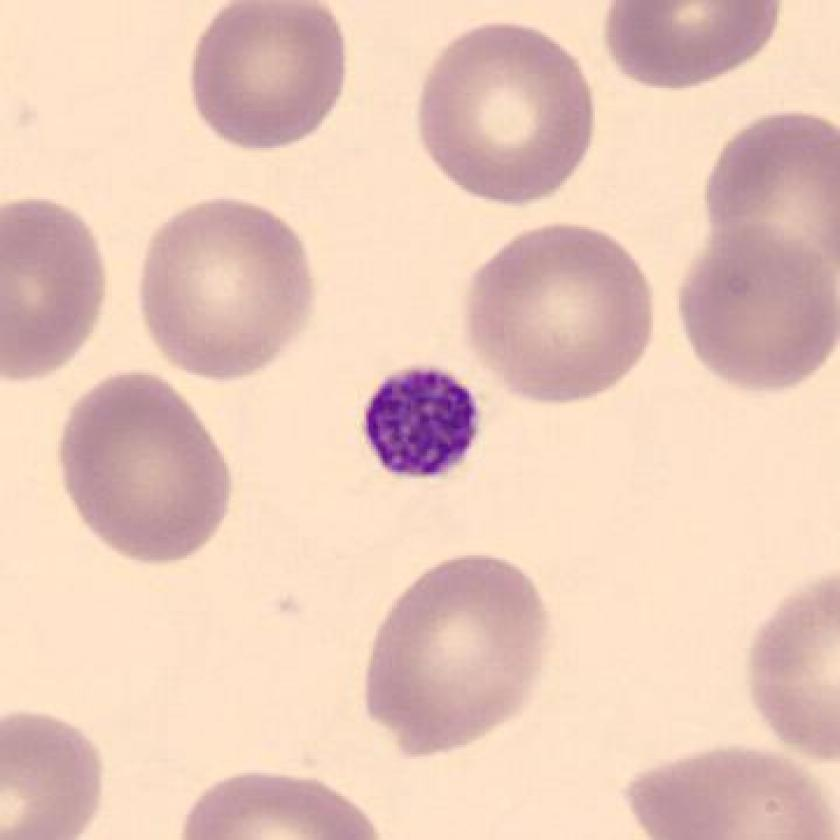platelets: (346, 357, 491, 494)
